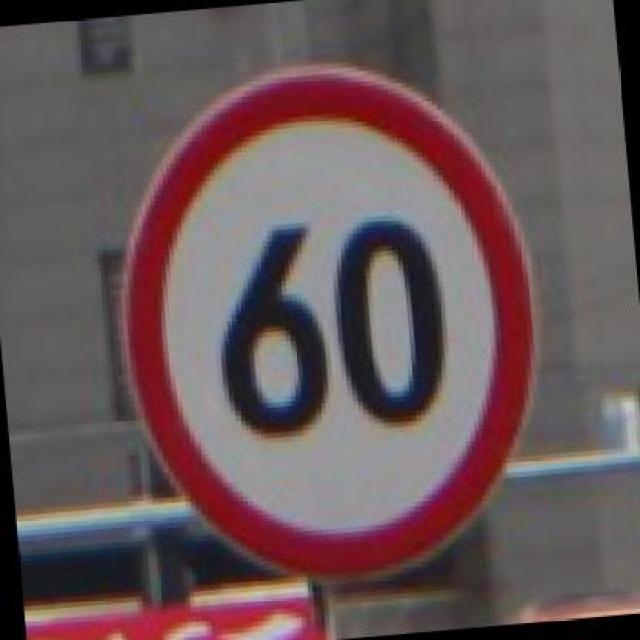Limite-60: (116, 61, 536, 584)
